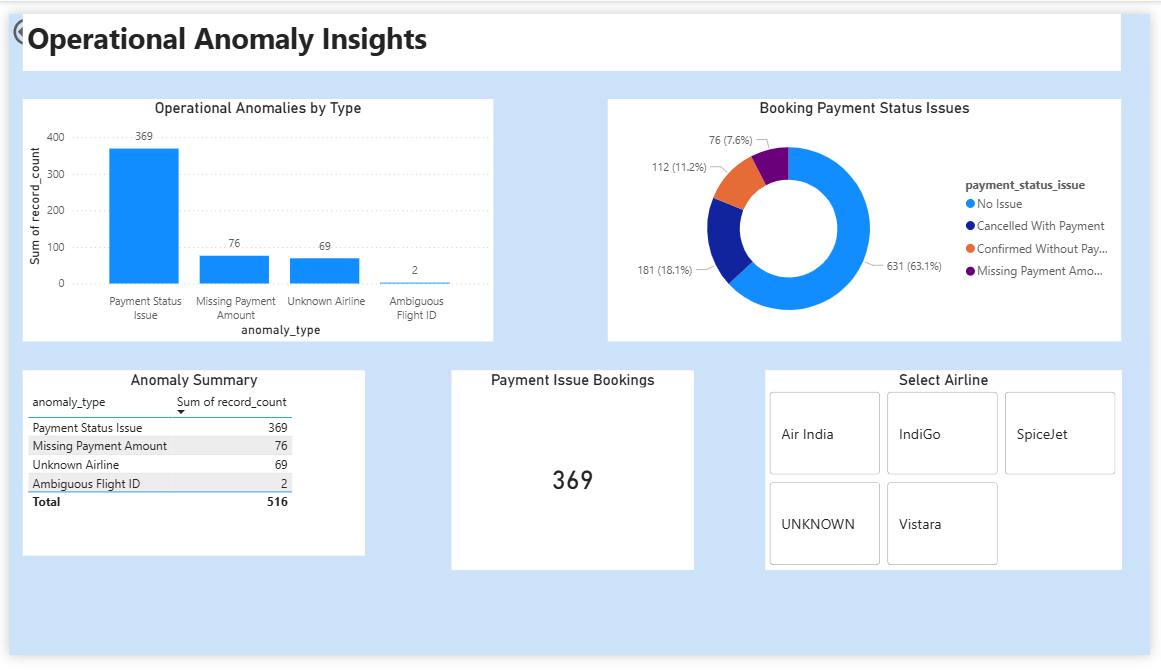

The dashboard page shown, as its layout file describes it:
{"tool":"powerbi","page":{"name":"Anomaly Insights ","canvas":[1280,720],"ordinal":4},"visuals":[{"type":"clusteredColumnChart","title":"Operational Anomalies by Type","fields":{"Category":["ASG_operational_anomalies.anomaly_type"],"Y":["Sum(ASG_operational_anomalies.record_count)"]},"box":[16,96,528,272],"z":0},{"type":"donutChart","title":"Booking Payment Status Issues","fields":{"Category":["ASG_protected_booking_analytics.payment_status_issue"],"Y":["CountNonNull(ASG_protected_booking_analytics.booking_id)"]},"box":[672,96,576,272],"z":1000},{"type":"card","title":"Payment Issue Bookings","fields":{"Values":["Sum(ASG_kpi_summary.Value)"]},"box":[496,400,272,224],"z":2000},{"type":"tableEx","title":"Anomaly Summary","fields":{"Values":["ASG_operational_anomalies.anomaly_type","Sum(ASG_operational_anomalies.record_count)"]},"box":[16,400,384,208],"z":3000},{"type":"actionButton","box":[0,0,100,40],"z":4000},{"type":"advancedSlicerVisual","title":"Select Airline","fields":{"Values":["ASG_airline_performance.airline"]},"box":[848,400,400,224],"z":5000},{"type":"textbox","box":[16,0,1232,64],"z":6000}]}

Visuals, with their boxes in screenshot pixels (x1, y1, x2, y2), scaled from the page's 1280x720 canvas onto the 1161x670 screenshot:
"Operational Anomalies by Type" clusteredColumnChart: 15:89:493:342
"Booking Payment Status Issues" donutChart: 610:89:1132:342
"Payment Issue Bookings" card: 450:372:697:581
"Anomaly Summary" tableEx: 15:372:363:566
actionButton: 0:0:91:37
"Select Airline" advancedSlicerVisual: 769:372:1132:581
textbox: 15:0:1132:60
